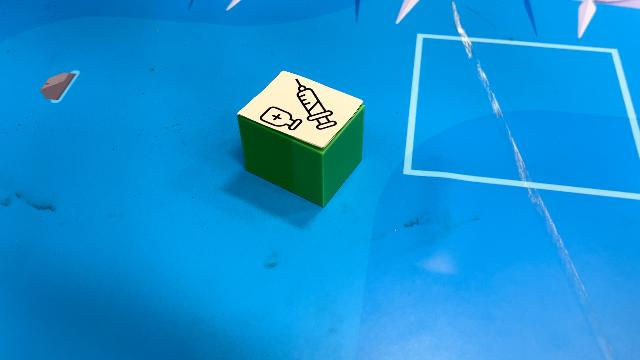syringe: (237, 69, 366, 207)
